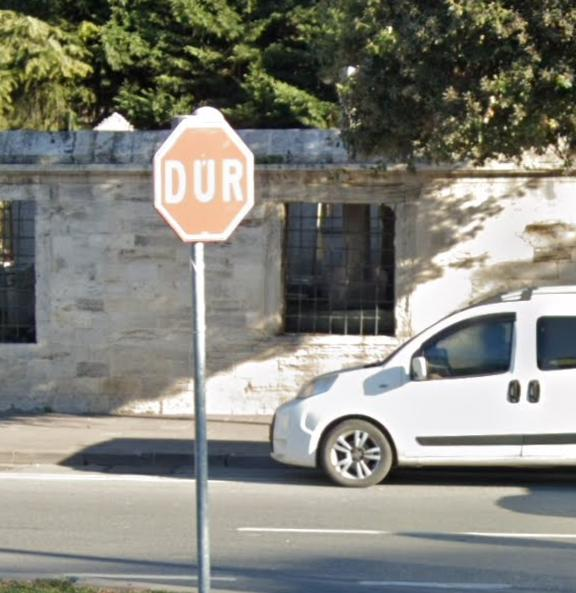stop: (153, 122, 258, 242)
